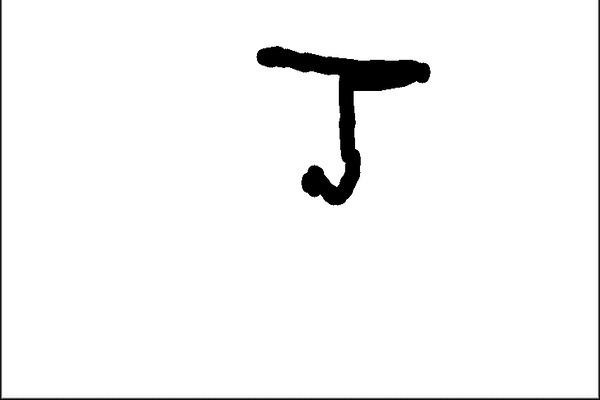J: (249, 36, 438, 205)
